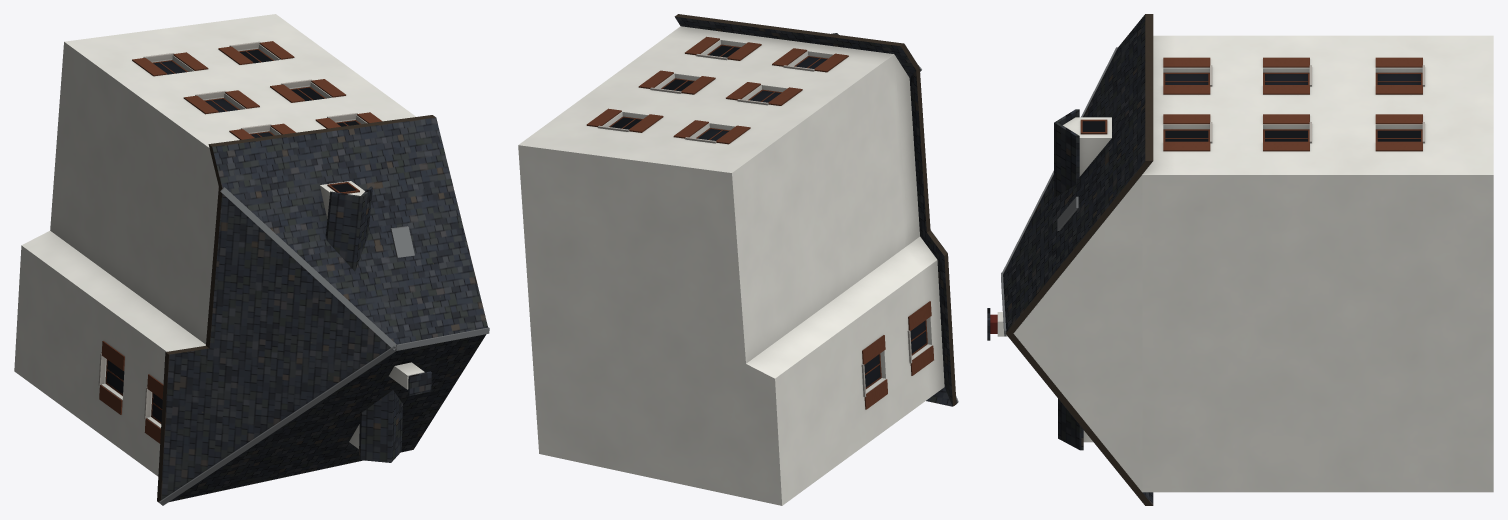
Rendered from house_b0286.obj.
The picture shows the model from 3 angles, left to right: view 1: azimuth 30°, elevation 25°; view 2: azimuth 150°, elevation 25°; view 3: azimuth 270°, elevation 25°; orthographic projection. The views are drawn at different scales.
Visible parts, largest first — view 1: house_b0286; view 2: house_b0286; view 3: house_b0286.
Part boxes in pixels (bbox=[...]): house_b0286: bbox=[14, 14, 489, 505]; house_b0286: bbox=[518, 14, 958, 505]; house_b0286: bbox=[987, 14, 1493, 505].
Size of the model in its own units: 10.53 by 12.77 by 15.24.
1 material, 1 textured.
